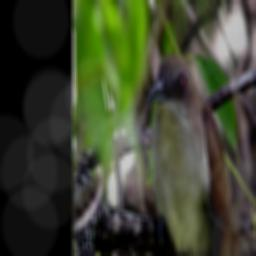Cuckoo: (147, 53, 243, 256)
